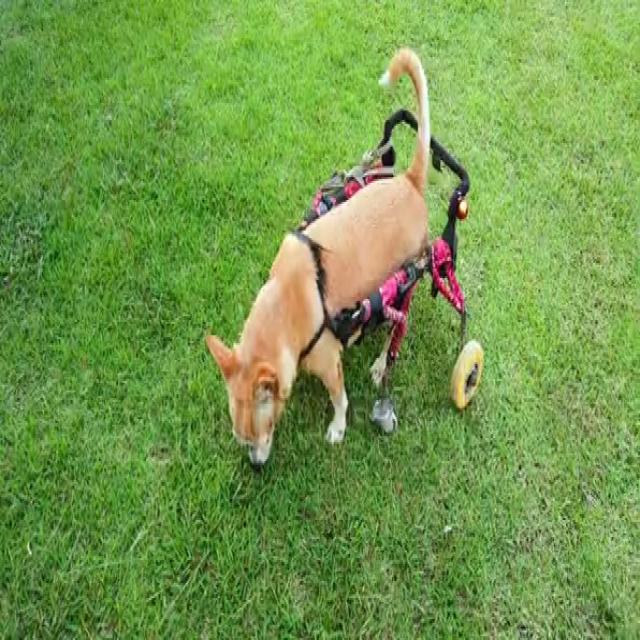injured-animals: (150, 132, 638, 521), (337, 61, 531, 447)
